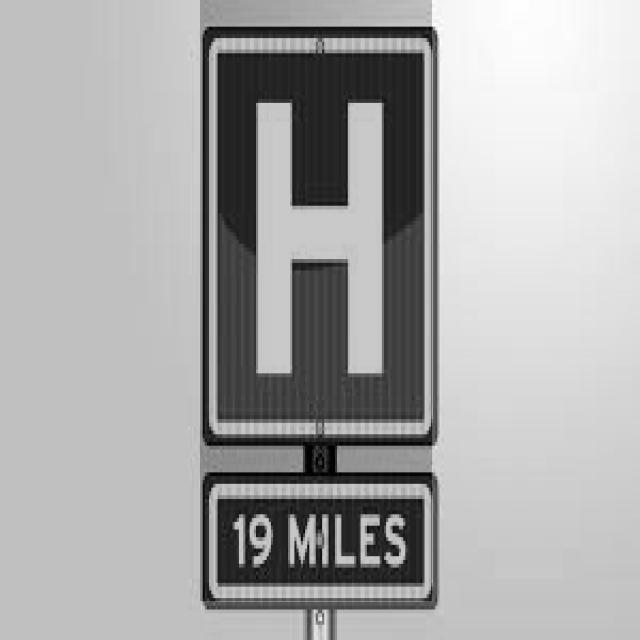hospital ahead: (231, 71, 412, 398)
